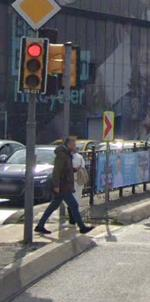redlight: (21, 36, 45, 89)
